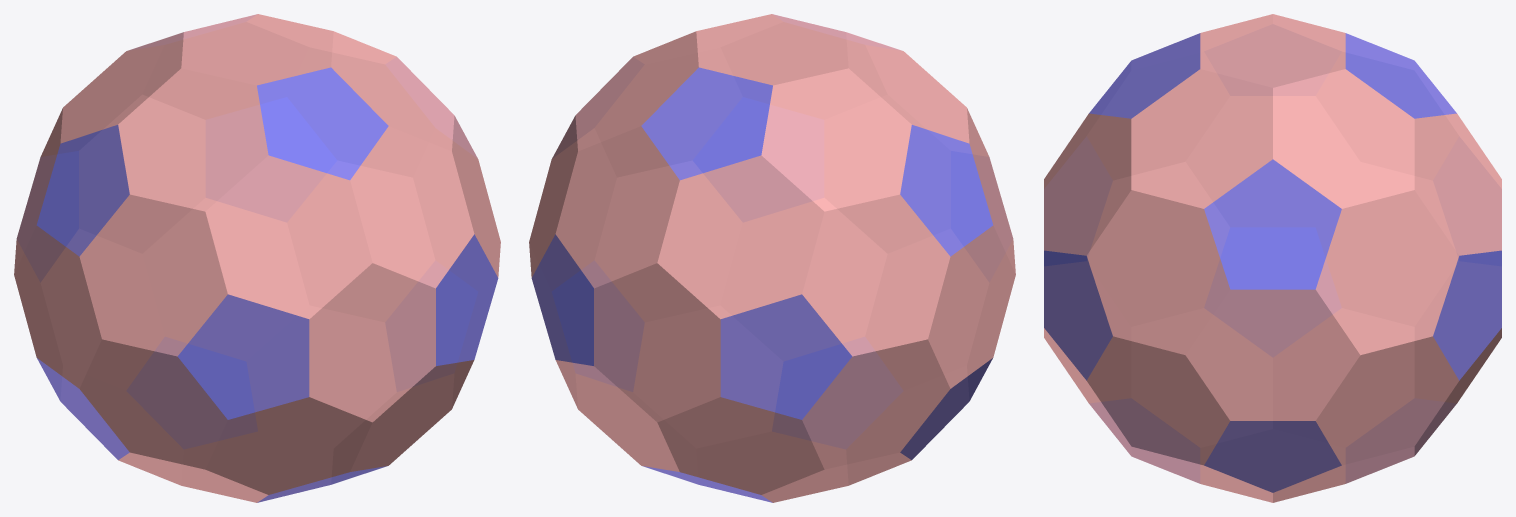
Rendered from ChamferedDodecahedron.obj.
3 views of the same model, side by side, from view 1: azimuth 30°, elevation 25°; view 2: azimuth 150°, elevation 25°; view 3: azimuth 270°, elevation 25° (orthographic).
Size of the model in its own units: 5.37 by 5.37 by 5.37.
